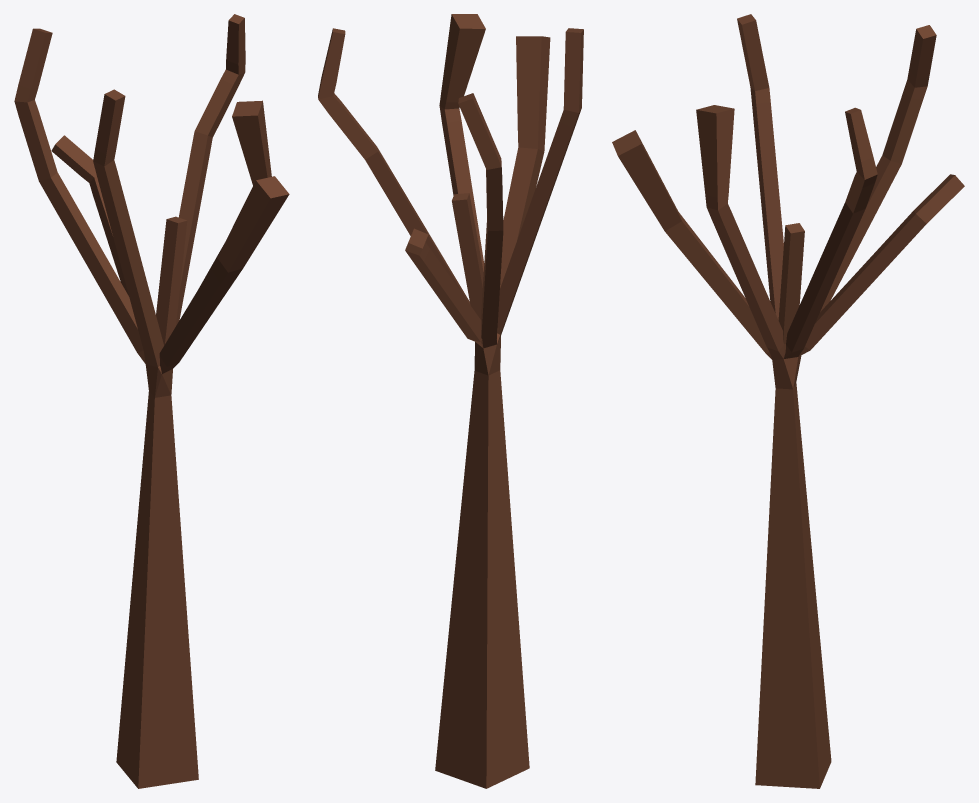
File: Arvore_Tipo1_MarinaPardalP01.fbx
The picture shows the model from 3 angles, left to right: view 1: azimuth 30°, elevation 25°; view 2: azimuth 150°, elevation 25°; view 3: azimuth 270°, elevation 25°; orthographic projection. The views are drawn at different scales.
Visible parts, largest first — view 1: arvore.003; view 2: arvore.003; view 3: arvore.003.
Part boxes in pixels (x1,y1,x2,y2): arvore.003: (14,14,289,788); arvore.003: (318,14,583,788); arvore.003: (612,14,964,788).
Size of the model in its own units: 5835 by 19451 by 8603.
